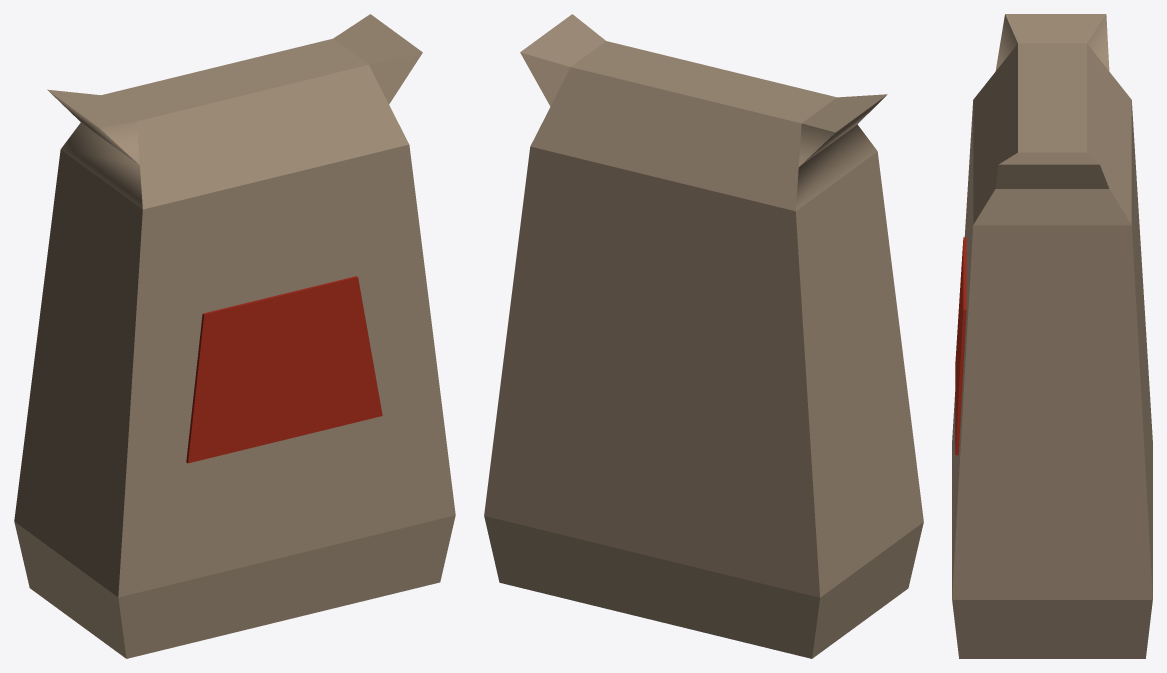
The model's file is Flour_1.fbx.
The picture shows the model from 3 angles, left to right: view 1: azimuth 30°, elevation 25°; view 2: azimuth 150°, elevation 25°; view 3: azimuth 270°, elevation 25°; orthographic projection. The views are drawn at different scales.
Visible parts, largest first — view 1: Flour_1; view 2: Flour_1; view 3: Flour_1.
Part boxes in pixels (x1,y1,x2,y2): Flour_1: [14, 14, 455, 658]; Flour_1: [484, 14, 923, 658]; Flour_1: [952, 14, 1152, 658].
Size of the model in its own units: 31.81 by 46.33 by 17.
